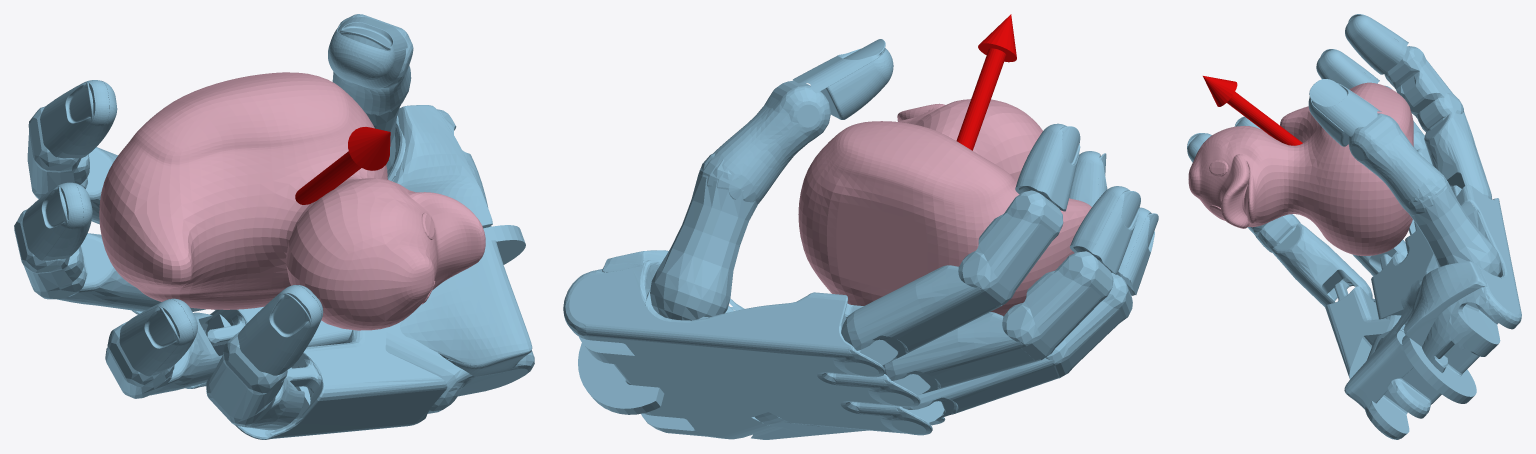
3 renders of one model, left to right at view 1: azimuth 30°, elevation 25°; view 2: azimuth 150°, elevation 25°; view 3: azimuth 270°, elevation 25°, orthographic. The views are drawn at different scales.
Parts seen in each view (by area): view 1: world, rubber_duck.stl; view 2: world, rubber_duck.stl; view 3: world, rubber_duck.stl.
Boxes of the visible parts, box(x1,y1,x2,y2) form: world: box(14, 14, 534, 439); rubber_duck.stl: box(99, 72, 485, 330); world: box(563, 14, 1158, 439); rubber_duck.stl: box(798, 99, 1091, 315); world: box(1187, 14, 1521, 439); rubber_duck.stl: box(1188, 82, 1413, 255).
Bounding box in the file's own units: 0.1778 × 0.1388 × 0.1426.
